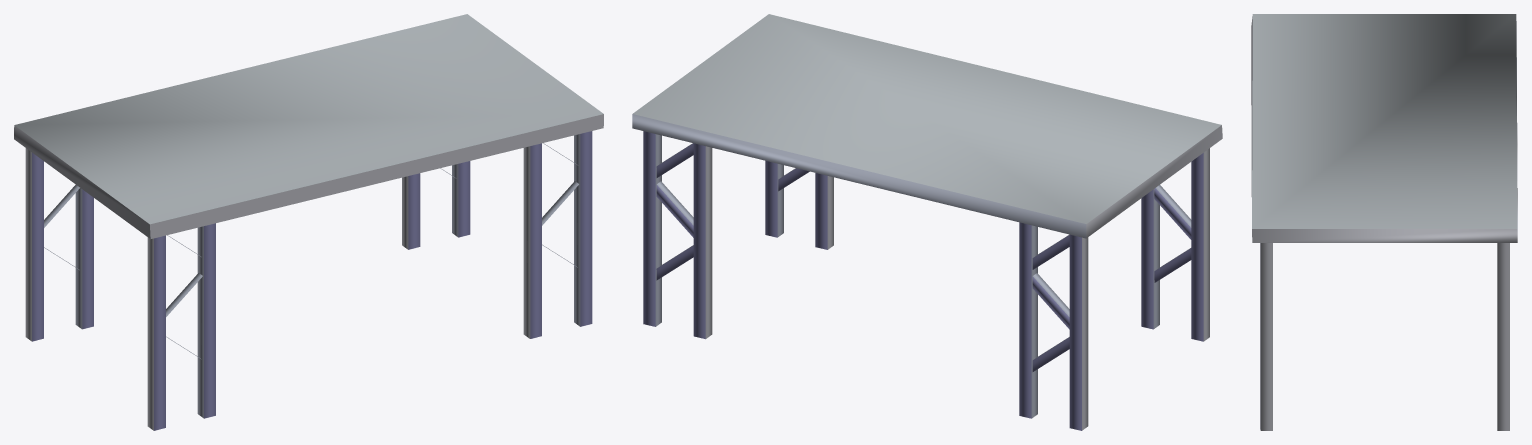
Rendered from Prop_wood_ramp_02.glb.
The picture shows the model from 3 angles, left to right: view 1: azimuth 30°, elevation 25°; view 2: azimuth 150°, elevation 25°; view 3: azimuth 270°, elevation 25°; orthographic projection. The views are drawn at different scales.
Visible parts, largest first — view 1: Prop_wood_ramp_02; view 2: Prop_wood_ramp_02; view 3: Prop_wood_ramp_02.
Part boxes in pixels (x1,y1,x2,y2): Prop_wood_ramp_02: (14, 14, 603, 430); Prop_wood_ramp_02: (632, 14, 1222, 430); Prop_wood_ramp_02: (1251, 14, 1517, 430).
Size of the model in its own units: 1.27 by 0.5638 by 0.6633.
